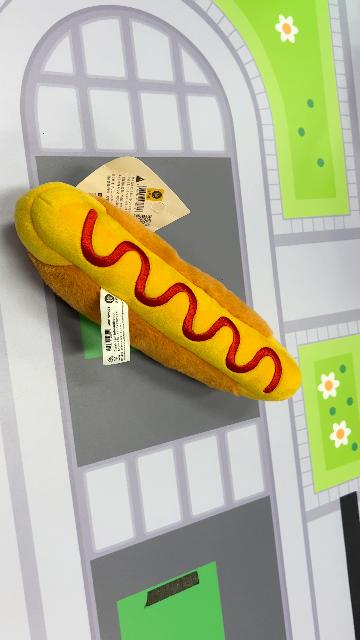hotdog: (14, 180, 304, 404)
